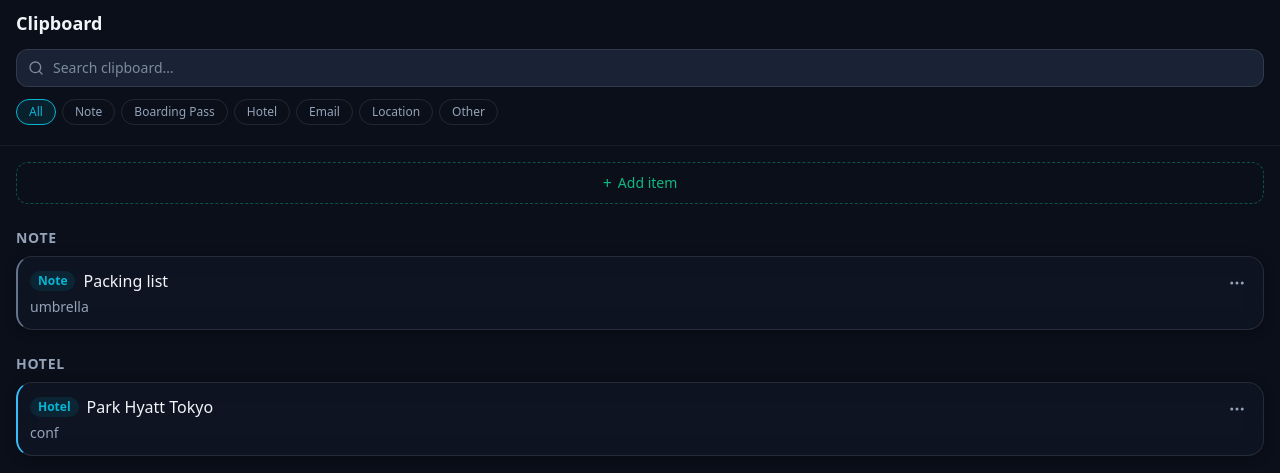
Test: ClipboardTab — search & filter › narrows results with a type filter chip
The width and height of the screenshot is (1280, 473).
Click the button with test id "filter-chip-Note" at (89, 112), box [62, 99, 115, 125]
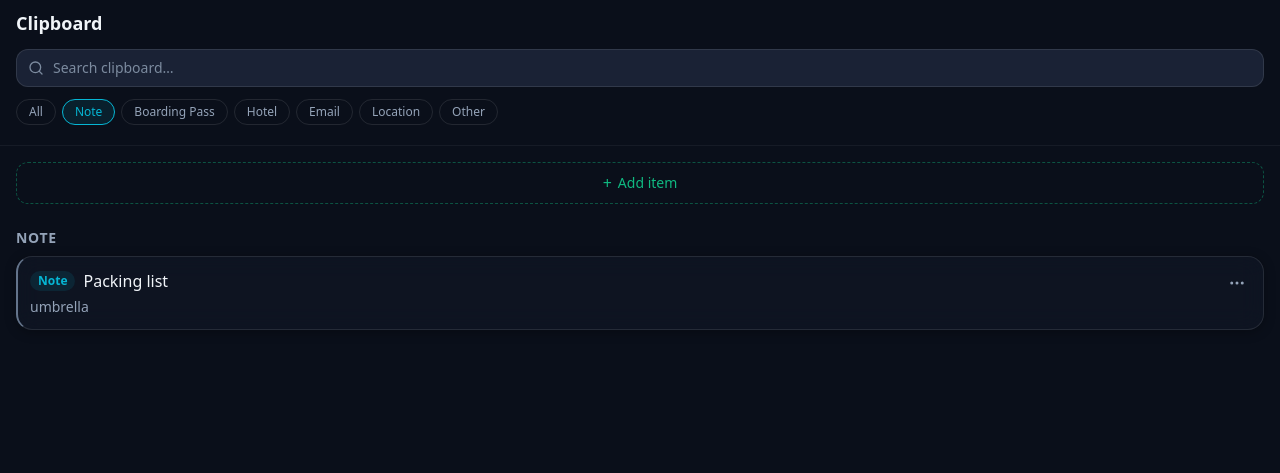
Expected: the text "Packing list" is shown, [84, 269, 168, 293]
Now the button "Park Hyatt Tokyo" is gone
